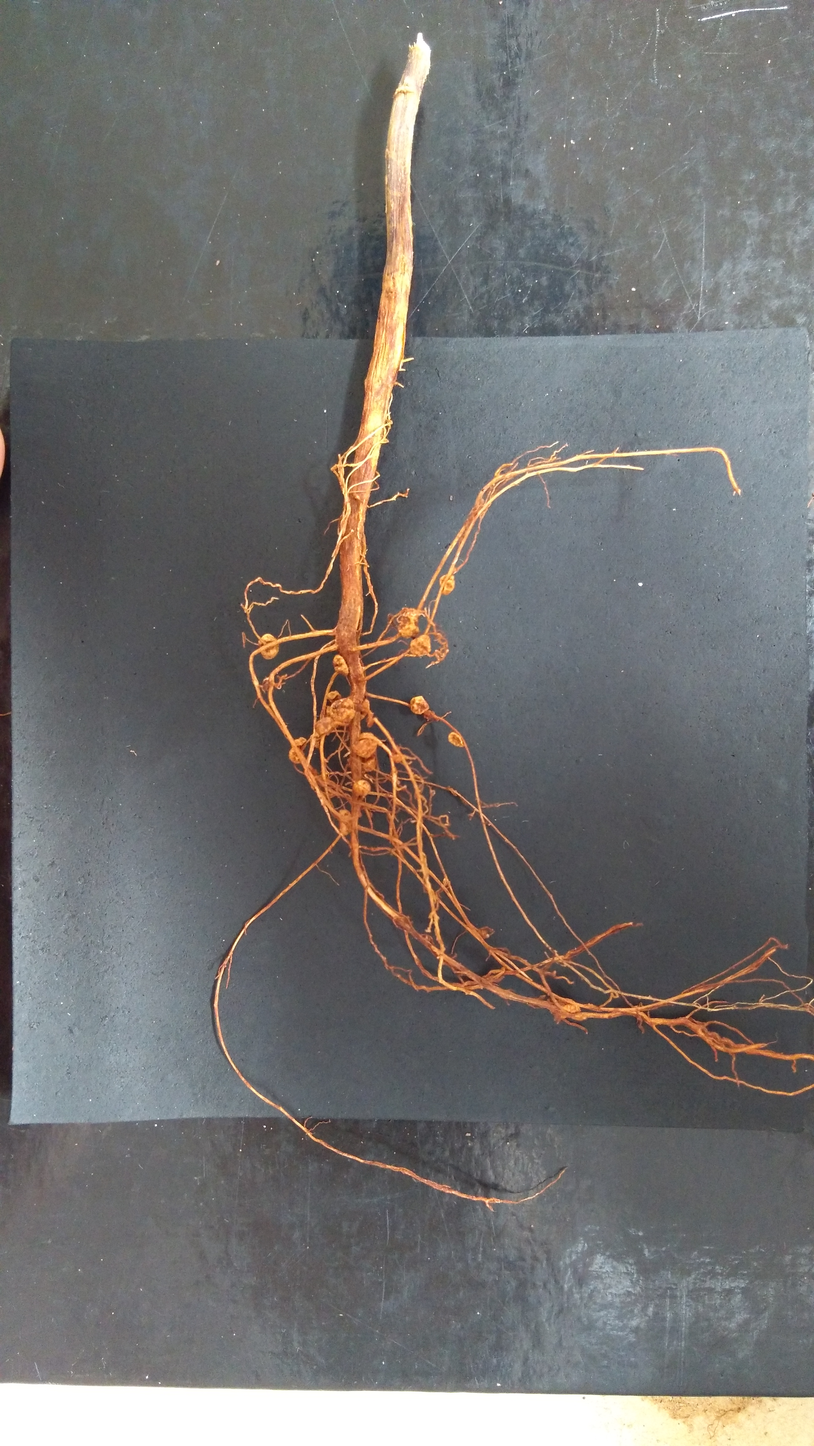nodule: (349, 730, 378, 760), (395, 606, 419, 640), (329, 697, 355, 727), (256, 632, 281, 662), (287, 734, 306, 766), (408, 633, 432, 658), (331, 653, 350, 679), (408, 694, 430, 716), (314, 714, 336, 736), (337, 808, 353, 838), (351, 777, 372, 799), (438, 574, 456, 598), (446, 730, 466, 750), (359, 753, 379, 773), (360, 697, 371, 721), (561, 1003, 583, 1014), (326, 689, 343, 702), (309, 732, 321, 750), (390, 752, 405, 764)
